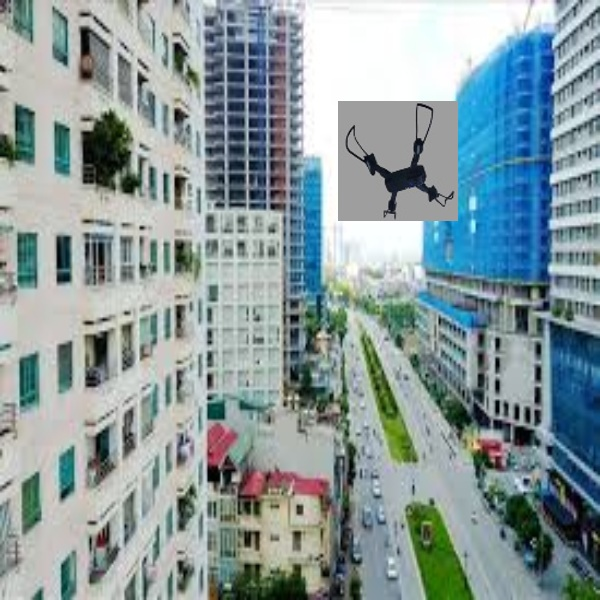drone: (342, 103, 455, 220)
